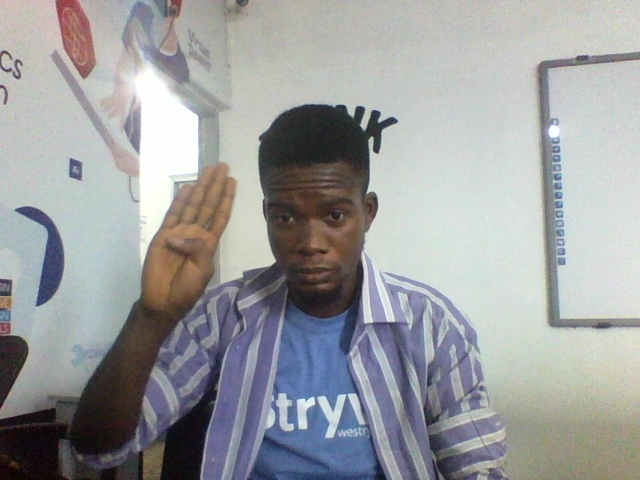hello: (133, 158, 241, 346)
